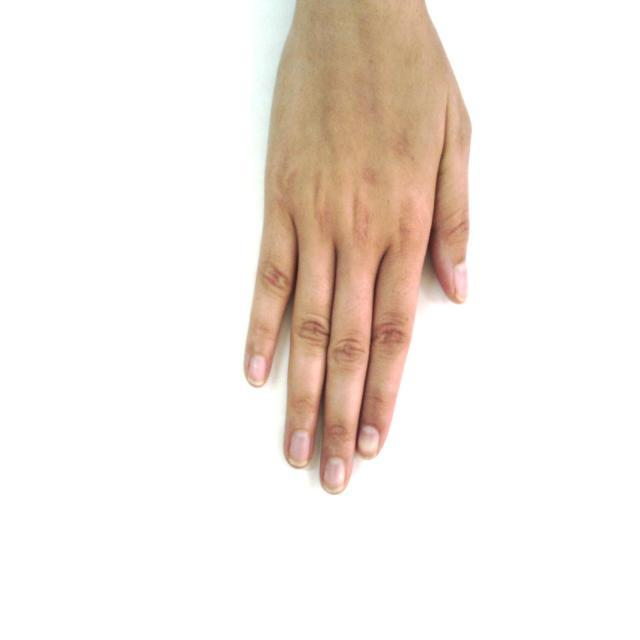Fingernail: (323, 458, 346, 494), (290, 431, 310, 467), (358, 427, 379, 457), (249, 356, 266, 386), (455, 264, 467, 299)
